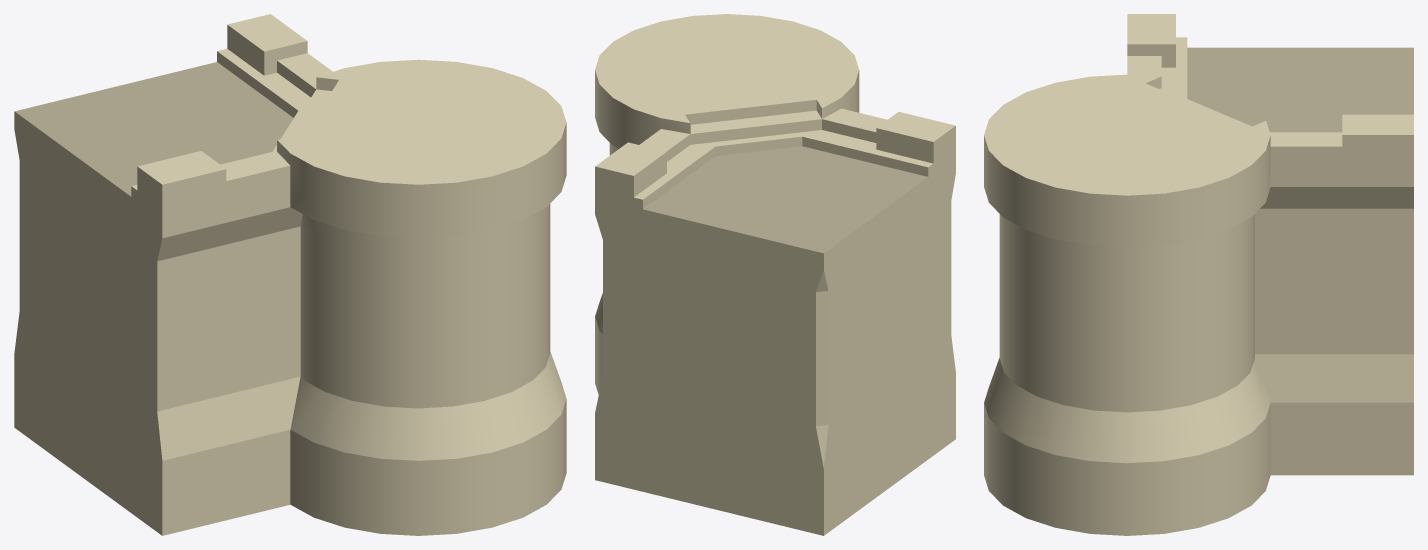
The model's file is wallCornerHalfTower.fbx.
3 views of the same model, side by side, from view 1: azimuth 30°, elevation 25°; view 2: azimuth 150°, elevation 25°; view 3: azimuth 270°, elevation 25° (orthographic). The views are drawn at different scales.
Visible parts, largest first — view 1: wallCornerHalfTower; view 2: wallCornerHalfTower; view 3: wallCornerHalfTower.
Boxes of the visible parts, x1=… form: wallCornerHalfTower: x1=14, y1=14, x2=566, y2=535; wallCornerHalfTower: x1=595, y1=14, x2=955, y2=535; wallCornerHalfTower: x1=984, y1=14, x2=1413, y2=535.
Bounding box in the file's own units: 15 × 13.1 × 15.
